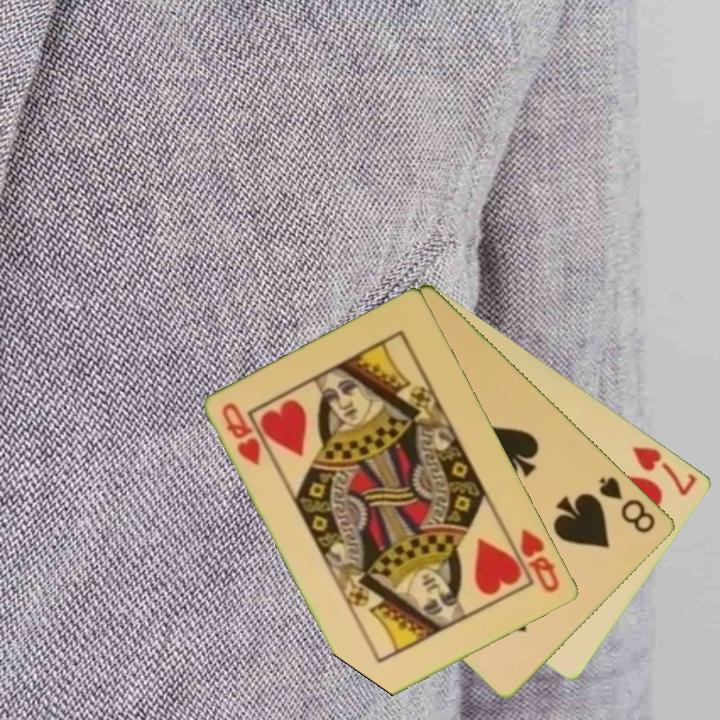7h: (629, 442, 701, 499)
8s: (596, 473, 659, 536)
Qh: (517, 525, 564, 596), (219, 399, 264, 469)
